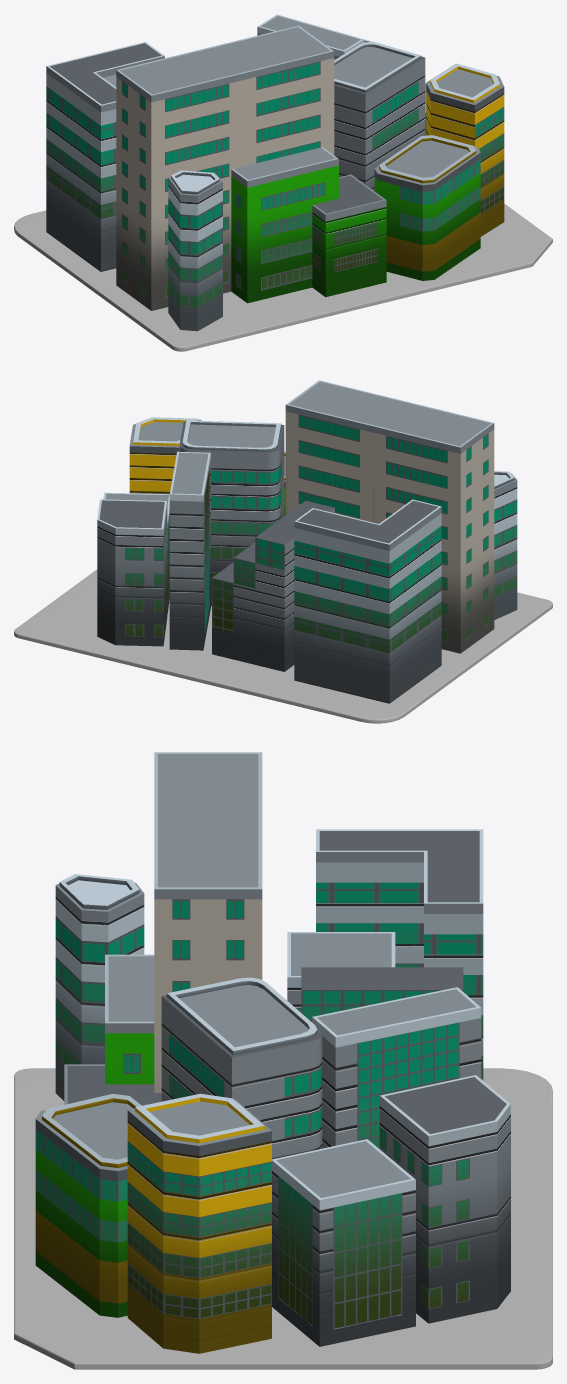
The model's file is Block_SW02.glb.
The picture shows the model from 3 angles, top to bottom: view 1: azimuth 30°, elevation 25°; view 2: azimuth 150°, elevation 25°; view 3: azimuth 270°, elevation 25°; orthographic projection. The views are drawn at different scales.
Visible parts, largest first — view 1: Building35, SW_Block_Sidewalk, Building28, Building36, Building27, Building29, Building25, Building26, Building31, Building30; view 2: Building35, Building28, SW_Block_Sidewalk, Building01.002, Building29, Building33, Building30, Building26, Building25, Building32; view 3: SW_Block_Sidewalk, Building26, Building35, Building32, Building33, Building28, Building29, Building27, Building30, Building25, Building36, Building01.002 (+2 smaller).
Boxes of the visible parts, x1,y1,x2,y2 form: Building35: (116,25,334,310); SW_Block_Sidewalk: (14,203,552,351); Building28: (46,41,164,271); Building36: (231,147,338,303); Building27: (374,135,480,280); Building29: (334,42,425,190); Building25: (168,170,222,331); Building26: (426,63,504,236); Building31: (312,174,386,297); Building30: (257,14,364,59); Building35: (285,380,494,653); Building28: (294,499,441,703); SW_Block_Sidewalk: (14,569,552,723); Building01.002: (212,501,334,671); Building29: (179,420,284,606); Building33: (97,499,167,646); Building30: (169,451,210,650); Building26: (129,417,201,494); Building25: (494,471,517,619); Building32: (103,492,169,613); SW_Block_Sidewalk: (14,1068,552,1369); Building26: (127,1093,271,1353); Building35: (154,752,262,1092); Building32: (272,1139,415,1346); Building33: (379,1075,510,1323); Building28: (316,829,483,1080); Building29: (161,977,322,1159); Building27: (35,1094,141,1317); Building30: (312,987,481,1148); Building25: (55,874,144,1100); Building36: (105,954,154,1084); Building01.002: (301,967,463,1021).
Bounding box in the file's own units: 51.87 × 27.5 × 39.96.
2 materials, 1 textured.
